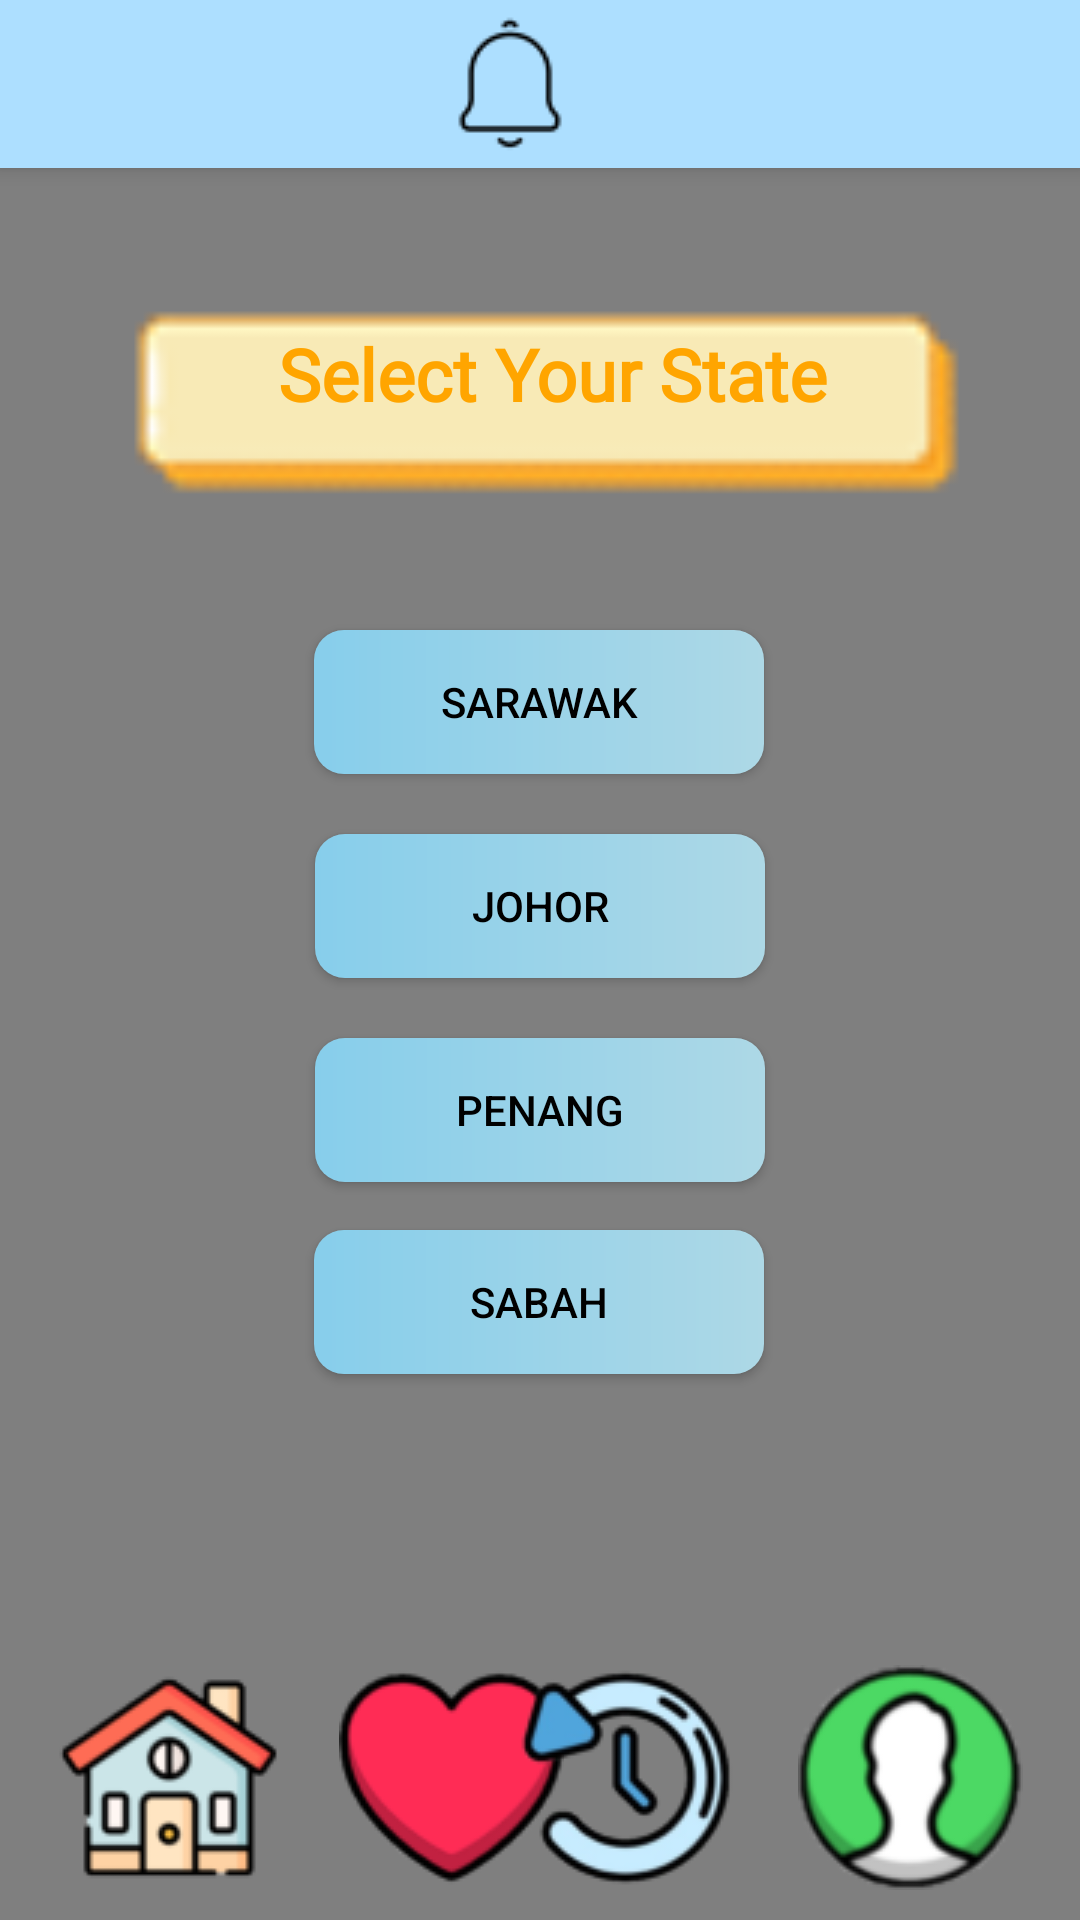

Named icons in this screenshot (1080×1920) and their bounding boxes, (x1, y1, x2, y2):
heart: (339, 1673, 564, 1882)
history: (516, 1673, 730, 1882)
home: (62, 1679, 277, 1876)
notification: (458, 18, 562, 148)
profile: (798, 1667, 1021, 1888)
